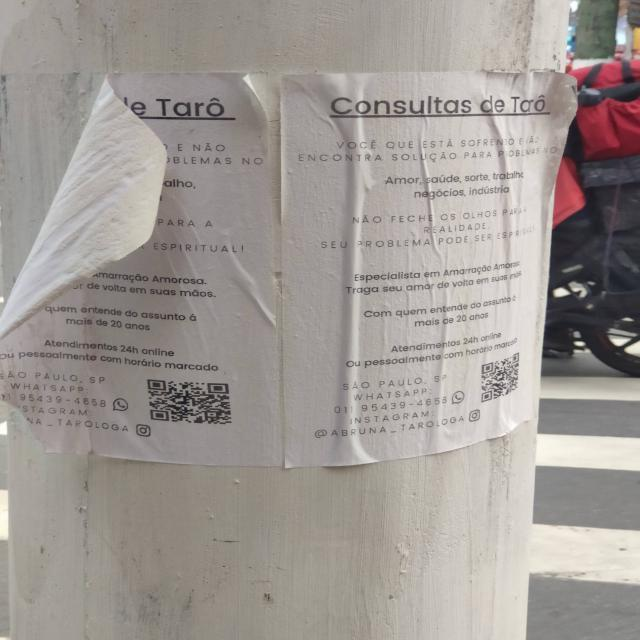qrcode: (149, 381, 233, 426), (483, 353, 521, 404)
